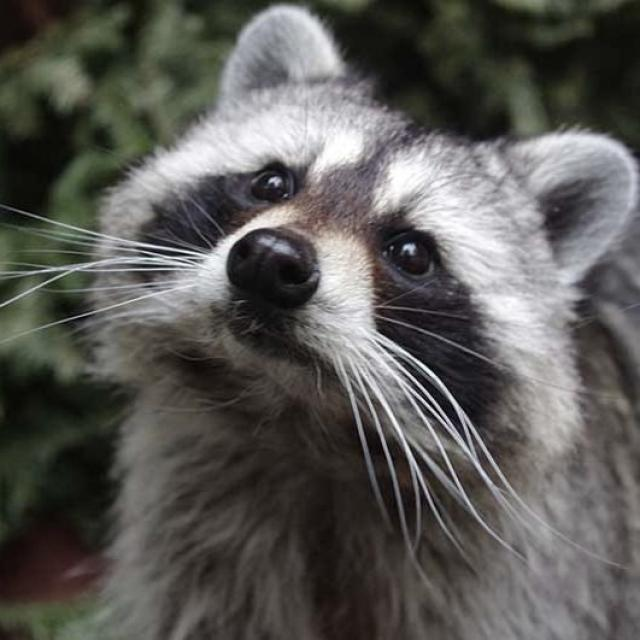raccoon: (22, 5, 639, 639)
